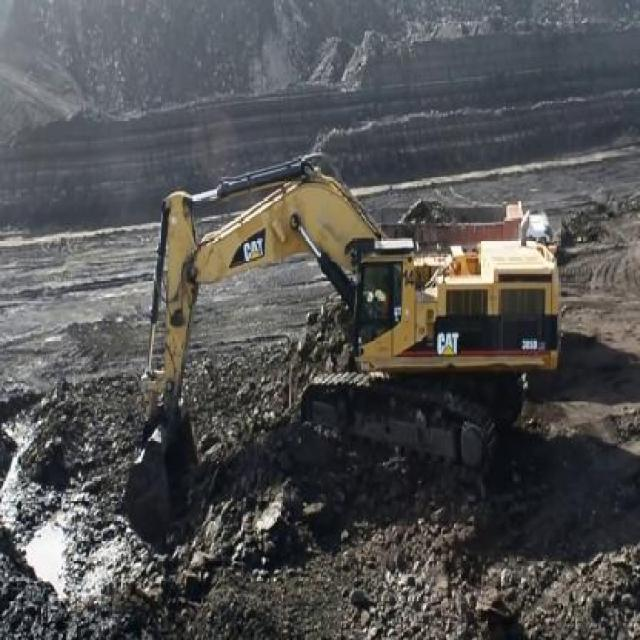Excavator: (119, 132, 563, 543)
